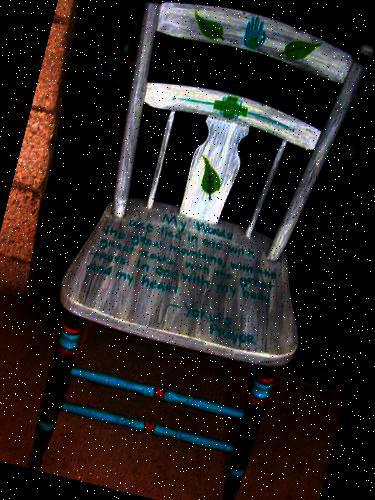Silla: (8, 0, 374, 499)
